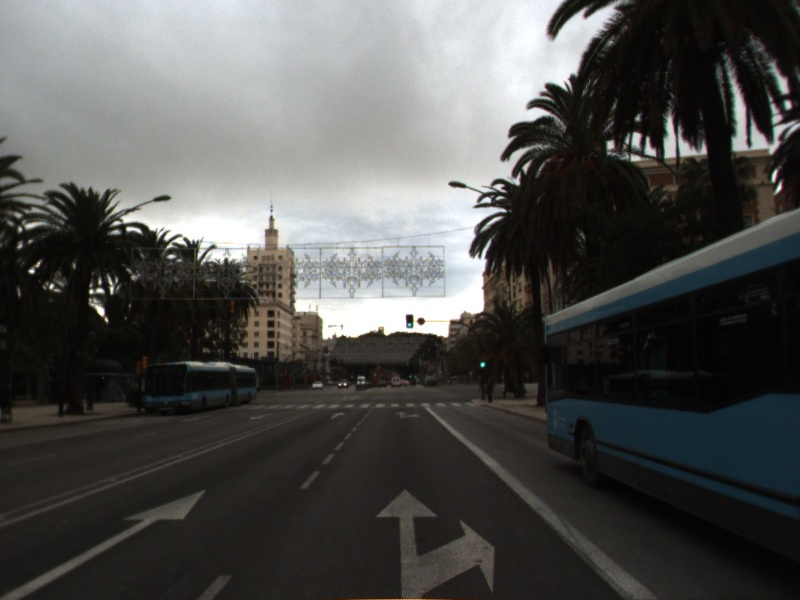STRAIGHT: (1, 487, 208, 600), (328, 410, 347, 421)
STRAIGHT_RIGHT: (374, 487, 497, 600), (393, 409, 422, 420)
